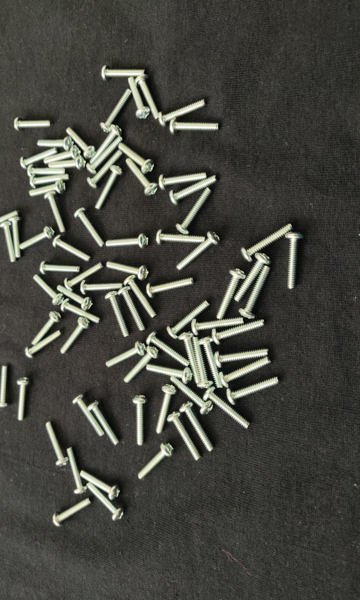longscrew: (240, 224, 294, 264), (203, 386, 251, 430), (233, 252, 272, 303), (175, 188, 214, 236), (179, 401, 215, 453), (238, 265, 272, 320), (170, 375, 214, 417), (176, 231, 221, 271), (167, 411, 202, 462), (219, 356, 272, 389), (167, 300, 210, 340), (145, 331, 191, 368), (215, 268, 247, 321), (87, 399, 121, 447), (168, 175, 219, 207), (227, 376, 280, 406), (123, 274, 158, 319), (158, 98, 208, 129), (99, 89, 133, 134), (87, 482, 124, 523), (212, 319, 266, 347), (72, 393, 106, 437), (137, 442, 175, 481), (86, 136, 124, 175), (87, 150, 123, 191), (123, 345, 160, 384), (89, 124, 123, 165), (118, 285, 147, 333), (94, 165, 124, 211), (74, 207, 107, 248), (80, 470, 122, 502), (178, 331, 202, 386), (104, 291, 131, 339), (125, 158, 158, 197), (199, 336, 223, 389), (285, 232, 306, 291), (64, 262, 105, 292), (146, 275, 195, 300), (118, 142, 155, 175), (215, 347, 270, 369), (25, 329, 64, 360), (52, 498, 92, 528), (59, 298, 103, 325), (60, 317, 91, 355), (135, 74, 160, 121), (155, 384, 178, 435), (52, 235, 93, 263), (192, 337, 214, 389), (105, 342, 147, 369), (32, 274, 65, 307), (65, 126, 97, 160), (31, 311, 62, 346), (46, 421, 69, 468), (191, 317, 245, 337), (66, 446, 88, 495), (146, 363, 194, 385), (169, 116, 221, 136), (44, 190, 67, 234), (158, 172, 208, 192), (57, 285, 94, 312), (128, 77, 151, 120), (156, 229, 207, 248), (106, 260, 150, 281), (19, 226, 55, 251), (132, 395, 149, 447), (19, 148, 59, 170), (100, 65, 146, 82), (0, 221, 18, 264), (43, 145, 81, 165), (15, 377, 31, 422), (80, 280, 124, 296), (29, 180, 67, 198), (28, 173, 70, 189), (13, 116, 54, 132), (106, 233, 149, 248), (8, 216, 23, 259), (39, 262, 81, 276), (26, 164, 67, 178), (36, 136, 74, 151), (48, 156, 86, 171), (0, 209, 20, 233), (0, 365, 10, 409)
